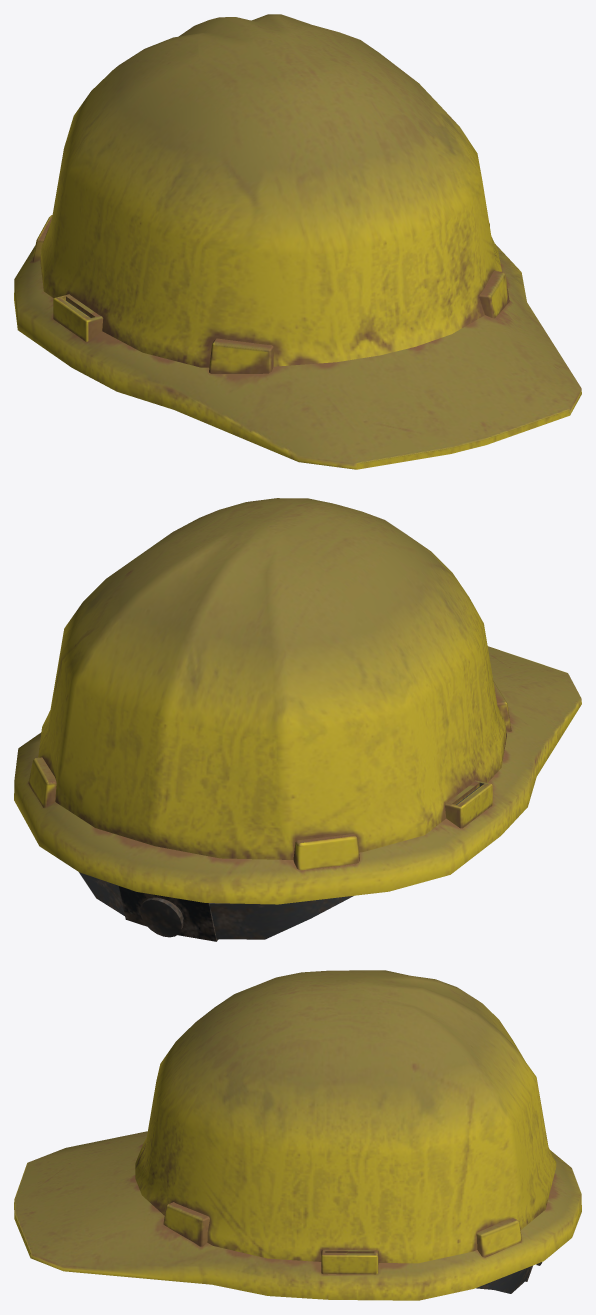
3 views of the same model, one above another, from view 1: azimuth 30°, elevation 25°; view 2: azimuth 150°, elevation 25°; view 3: azimuth 270°, elevation 25° (orthographic). The views are drawn at different scales.
Parts seen in each view (by area): view 1: defaultMaterial; view 2: defaultMaterial; view 3: defaultMaterial.
Boxes of the visible parts, x1,y1,x2,y2 form: defaultMaterial: (14,14,581,469); defaultMaterial: (14,498,581,941); defaultMaterial: (14,970,581,1300).
Size of the model in its own units: 2.13 by 1.56 by 2.85.
1 material, 1 textured.
